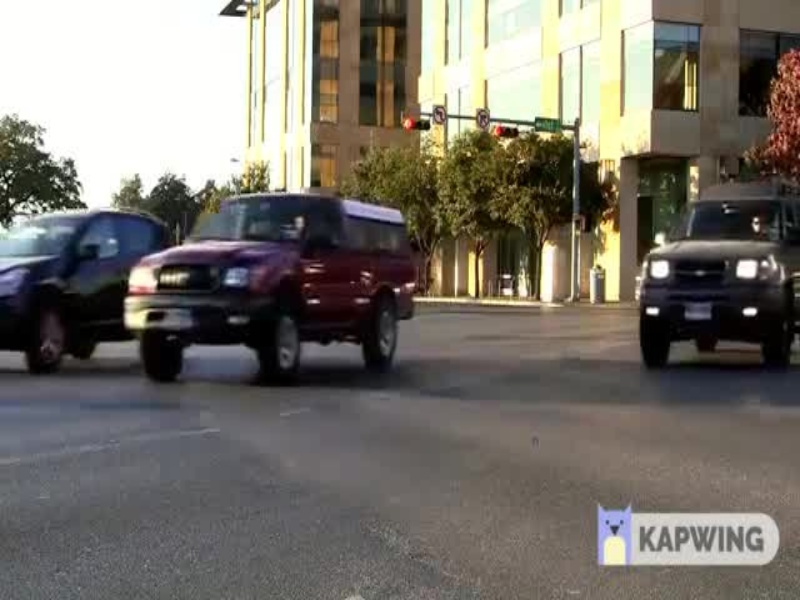car: (132, 195, 437, 392), (630, 188, 800, 389)
